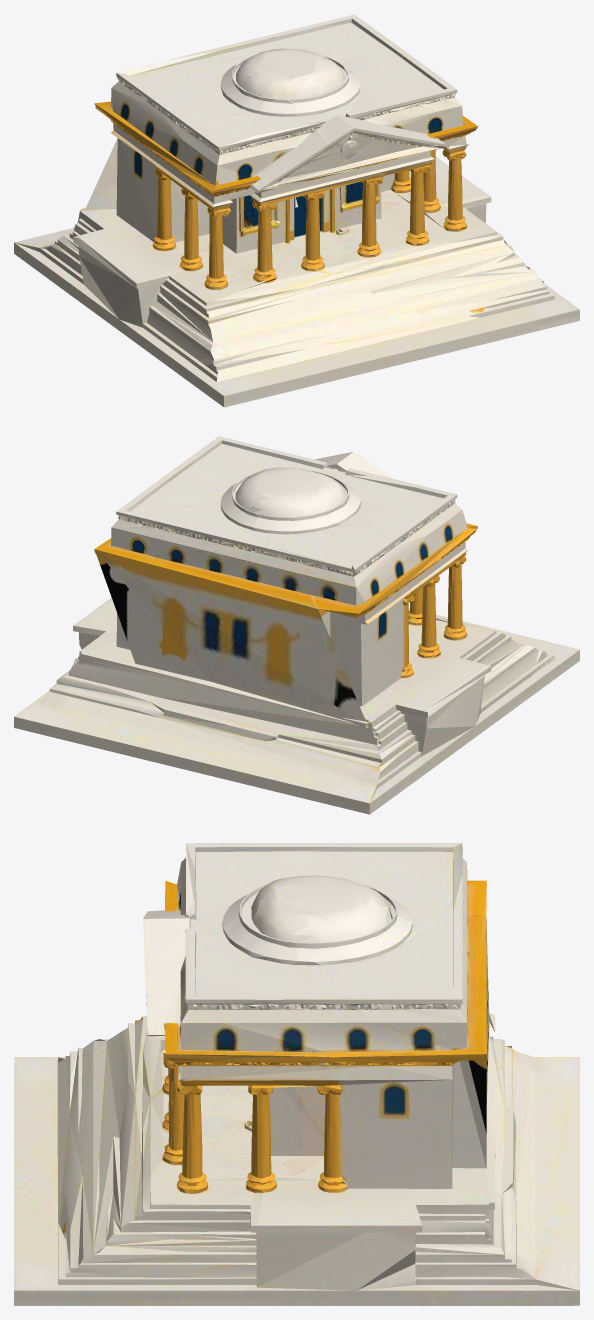
File: lm_museum.glb
The picture shows the model from 3 angles, top to bottom: view 1: azimuth 30°, elevation 25°; view 2: azimuth 150°, elevation 25°; view 3: azimuth 270°, elevation 25°; orthographic projection. The views are drawn at different scales.
Visible parts, largest first — view 1: output_unwrapped; view 2: output_unwrapped; view 3: output_unwrapped.
Boxes of the visible parts, x1=… form: output_unwrapped: x1=14, y1=14, x2=579, y2=407; output_unwrapped: x1=14, y1=436, x2=579, y2=814; output_unwrapped: x1=14, y1=843, x2=579, y2=1305.
Size of the model in its own units: 1.86 by 1.09 by 1.9.
Materials: 1 (1 with a texture image).
